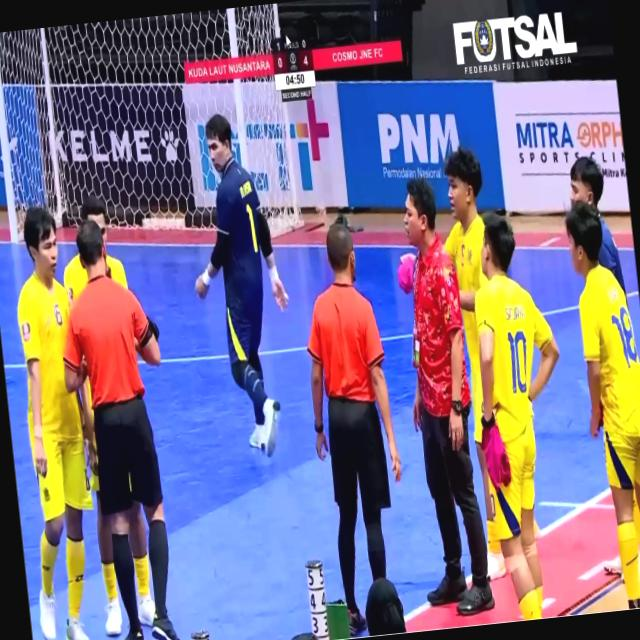keeper: (195, 113, 287, 455), (239, 181, 251, 197)
official: (413, 232, 470, 422)
players: (475, 213, 558, 619), (18, 207, 93, 639), (196, 115, 288, 456), (565, 202, 639, 608), (445, 148, 505, 579), (89, 442, 122, 636), (598, 212, 625, 290)
referee: (64, 220, 179, 639), (308, 225, 401, 635)
